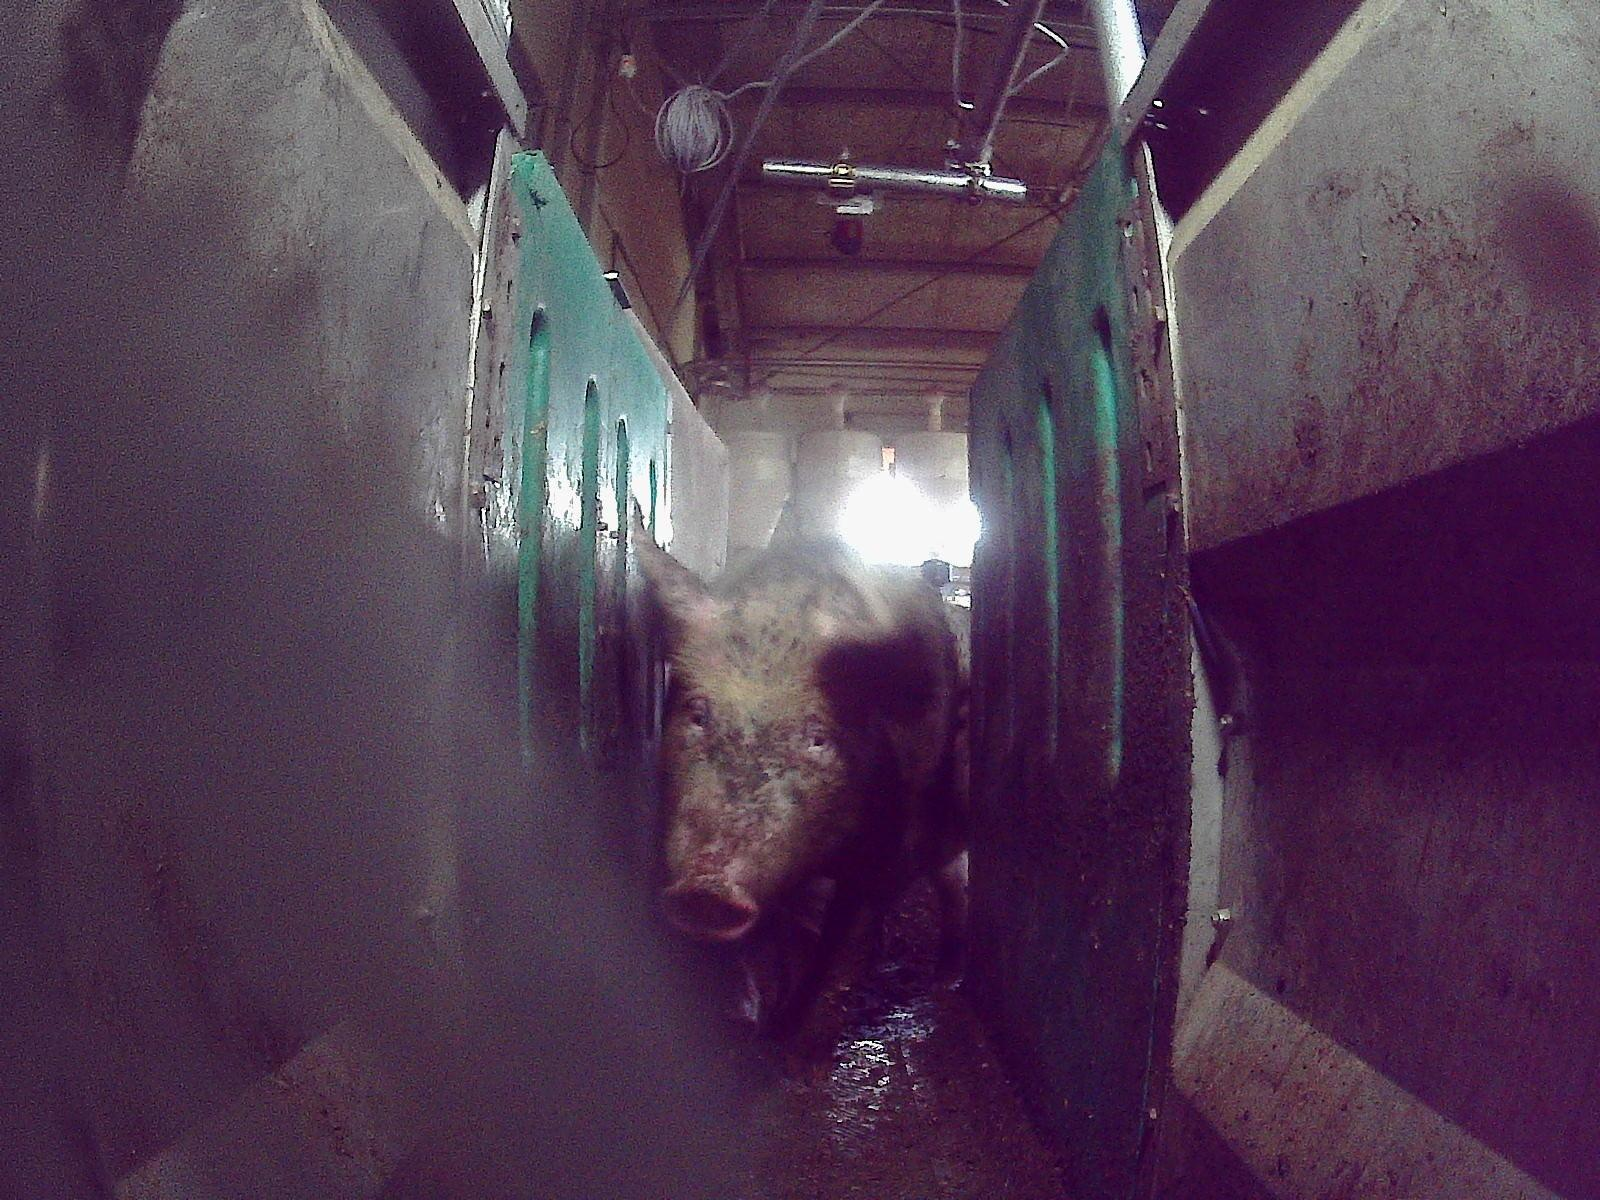Face: (657, 629, 847, 940)
